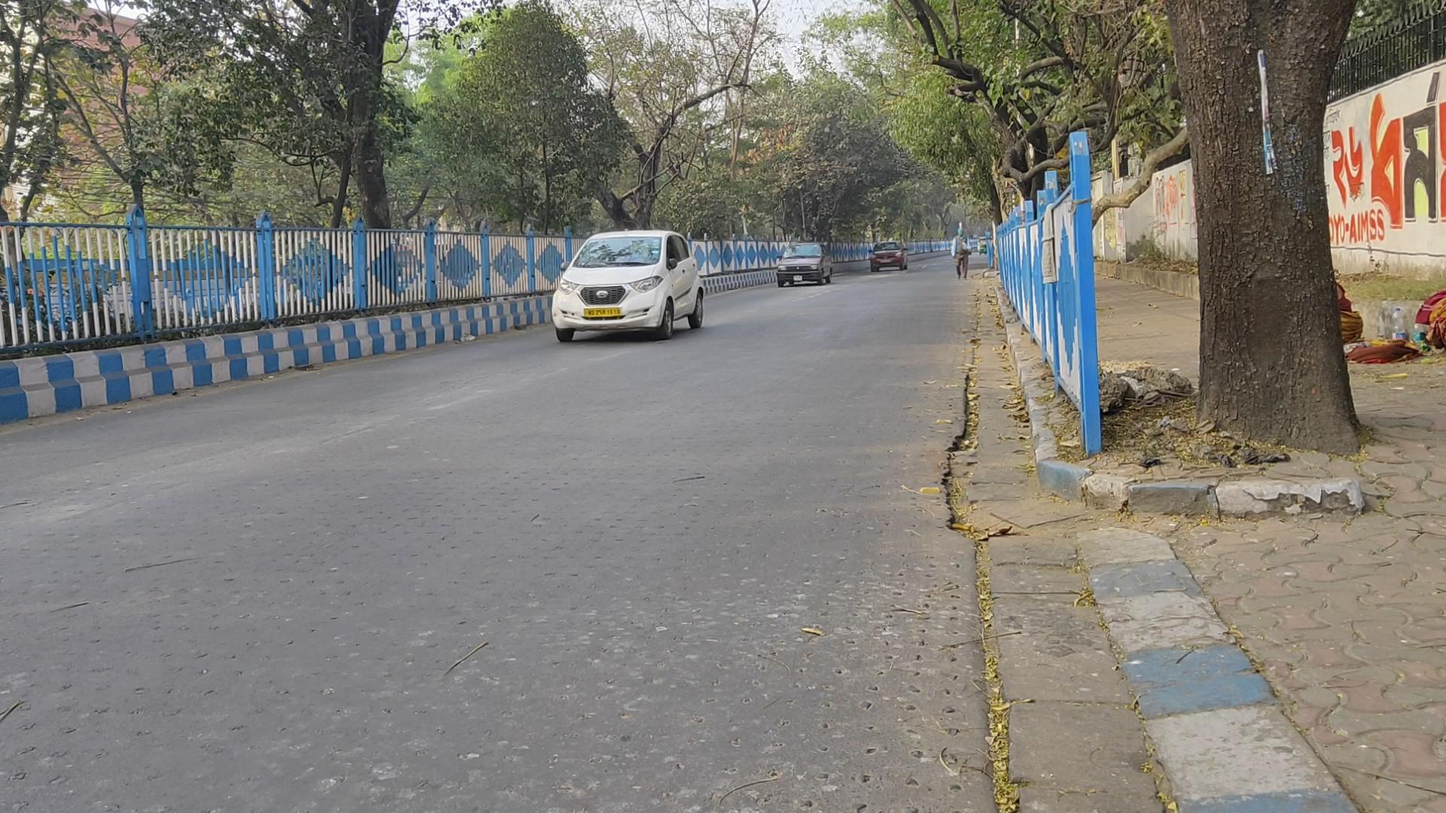Auto: (977, 236, 990, 256)
car: (549, 230, 703, 342), (775, 240, 832, 288), (867, 239, 908, 272)
